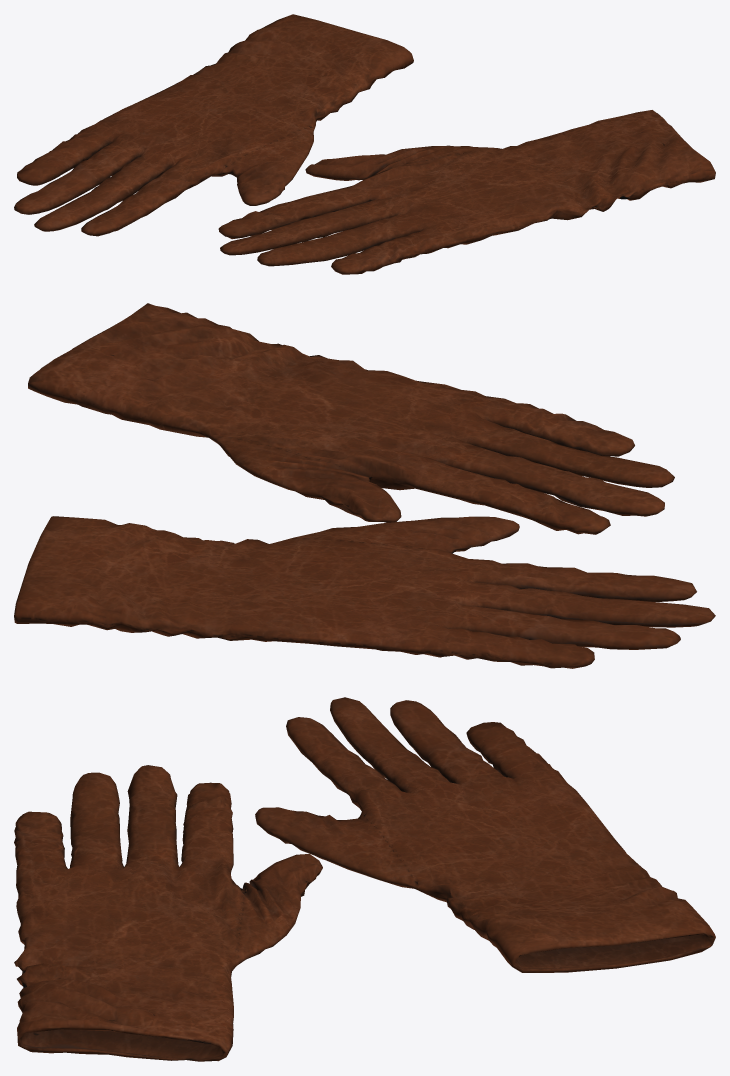
Rendered from gloves_01.fbx.
The picture shows the model from 3 angles, top to bottom: view 1: azimuth 30°, elevation 25°; view 2: azimuth 150°, elevation 25°; view 3: azimuth 270°, elevation 25°; orthographic projection. The views are drawn at different scales.
Visible parts, largest first — view 1: gloves_01 R, gloves_01 L; view 2: gloves_01 R, gloves_01 L; view 3: gloves_01 R, gloves_01 L.
Boxes of the visible parts, box(x1,y1,x2,y2) form: gloves_01 R: box(14, 14, 413, 236); gloves_01 L: box(218, 110, 715, 274); gloves_01 R: box(14, 516, 715, 668); gloves_01 L: box(28, 303, 674, 534); gloves_01 R: box(255, 697, 715, 972); gloves_01 L: box(14, 765, 322, 1061).
Bounding box in the file's own units: 60.11 × 3.21 × 48.99.
